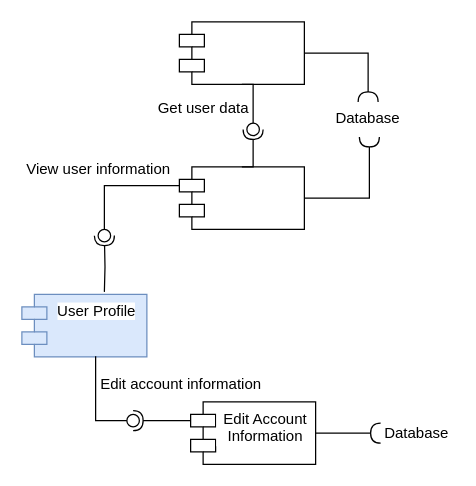
Some shapes in this 476 by 486 pixel diagram are drawn without their labels. Each missing label, with the centre of its shape:
"User Information" goes at point (241, 52).
"View Account Information" goes at point (241, 197).
